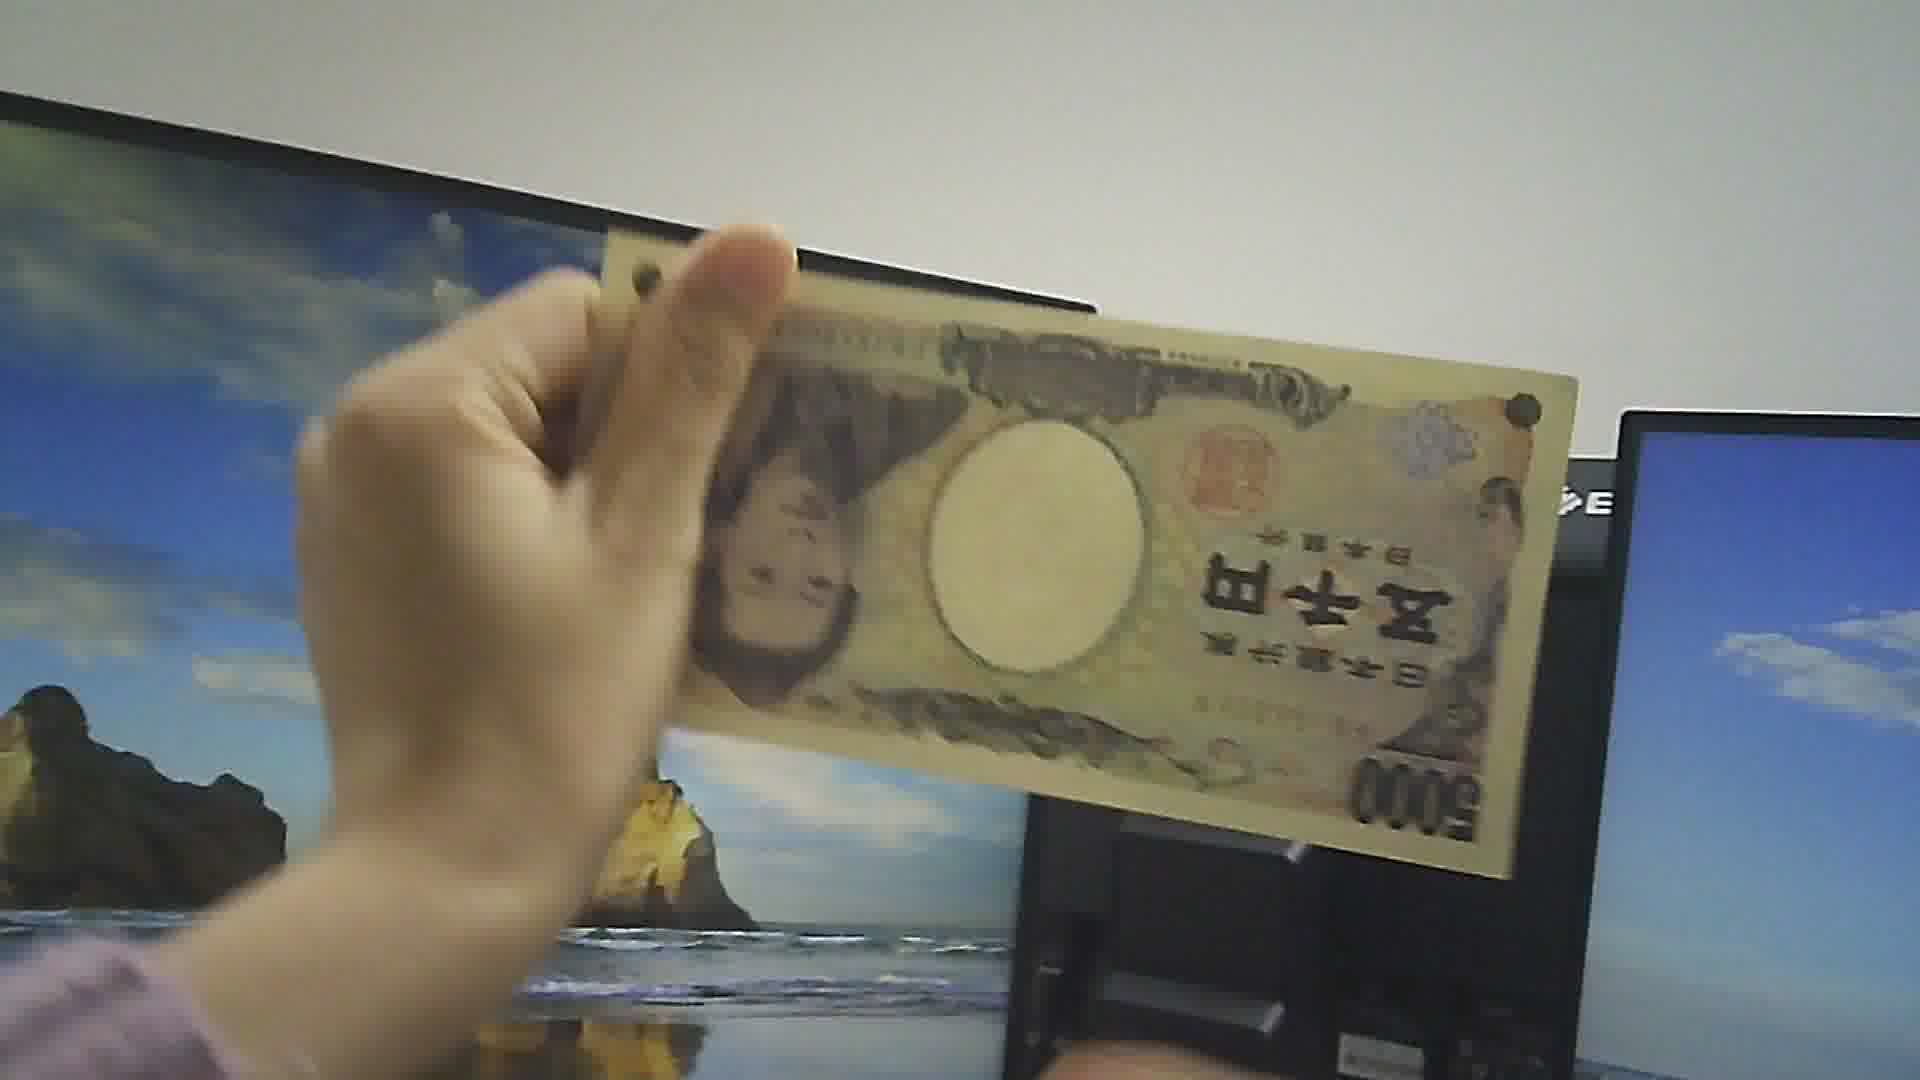5,000 Yen: (578, 228, 1584, 918)
